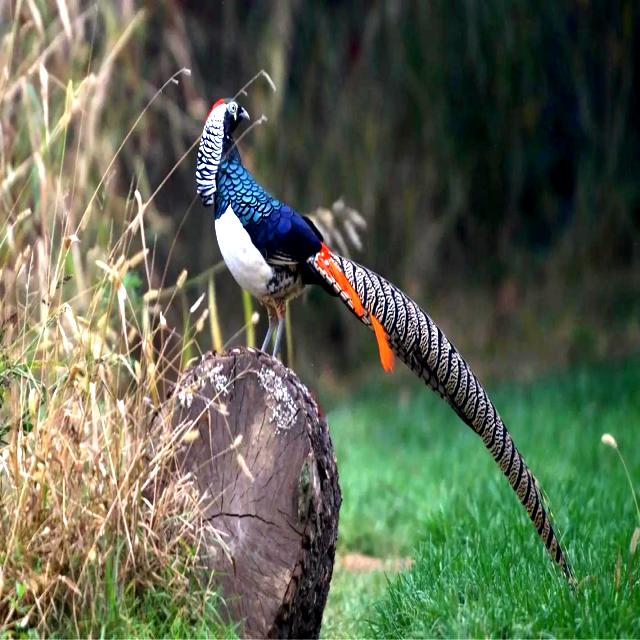Chrysolophus amherstiae: (306, 254, 573, 578)
